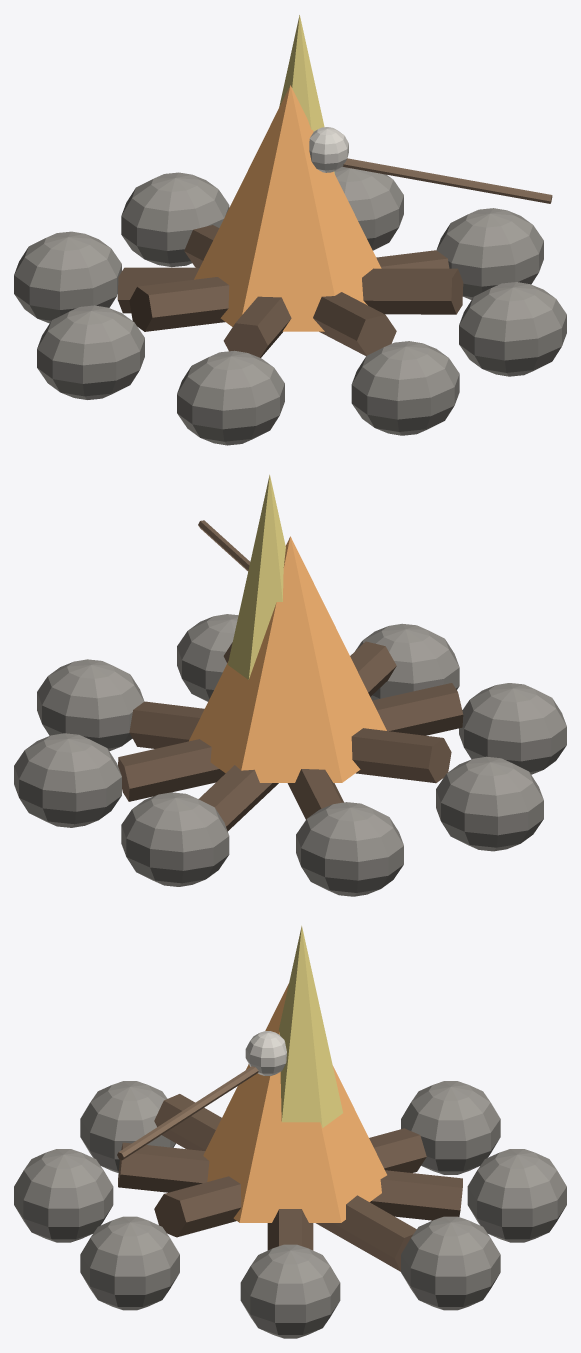
Rendered from Campfire.fbx.
3 renders of one model, top to bottom at view 1: azimuth 30°, elevation 25°; view 2: azimuth 150°, elevation 25°; view 3: azimuth 270°, elevation 25°, orthographic.
Visible parts, largest first — view 1: Prop_Campfire; view 2: Prop_Campfire; view 3: Prop_Campfire.
Part boxes in pixels (<box>): Prop_Campfire: <box>14,15,566,445</box>; Prop_Campfire: <box>14,474,566,896</box>; Prop_Campfire: <box>14,925,566,1338</box>.
Size of the model in its own units: 0.9854 by 0.62 by 0.9755.
